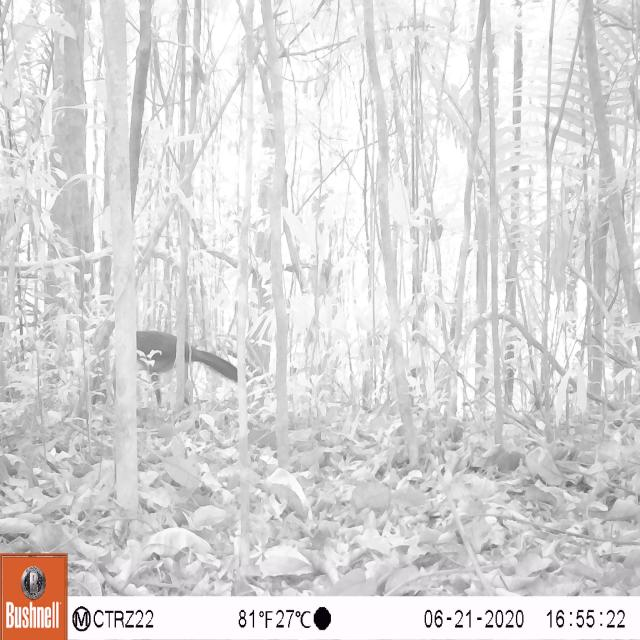Spixs Guan: (97, 304, 246, 399)
